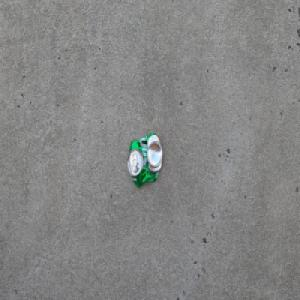SodaCan: (126, 131, 163, 188)
